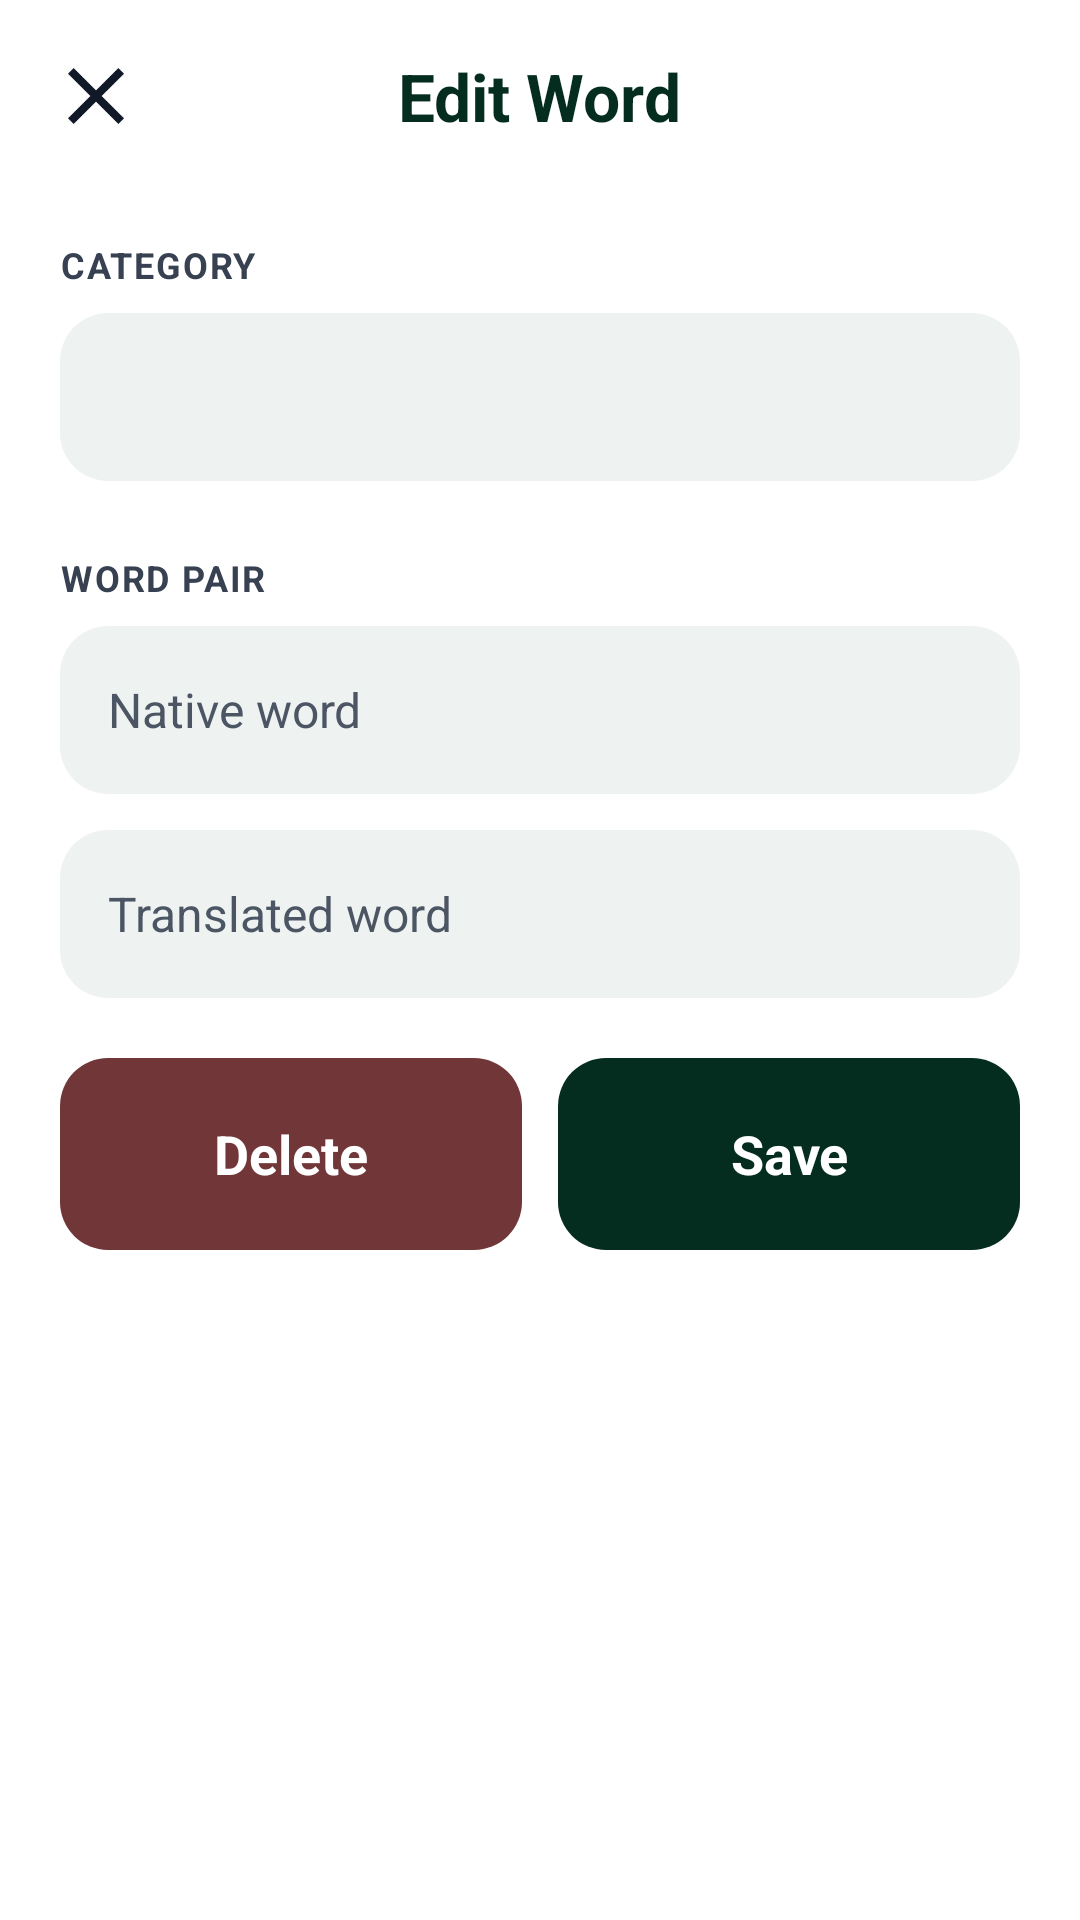

Where to tap for icons on this 1080×1920 app screen, as point (x, y):
Close: point (96, 96)
